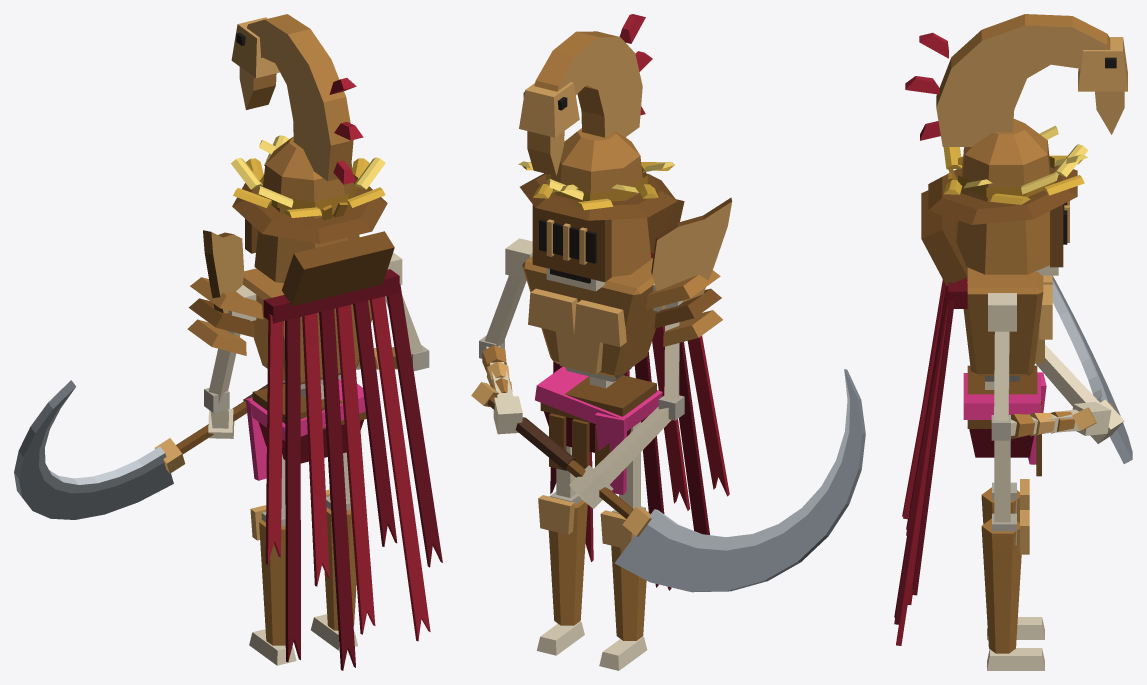
File: EN_EternalVictor.fbx
The picture shows the model from 3 angles, left to right: view 1: azimuth 30°, elevation 25°; view 2: azimuth 150°, elevation 25°; view 3: azimuth 270°, elevation 25°; orthographic projection. The views are drawn at different scales.
Parts seen in each view (by area): view 1: Crest, Blade, Ribbon4, NeckFlare, Ribbon1, Ribbon6, Ribbon3, Ribbon0, Ribbon5, Brim, Ribbon2, Head (+19 smaller); view 2: Blade, Crest, Cuirass, Guard, Head, GreaveR, Brim, Visor, Ribbon6, Sash, Dome, GriffinHead (+30 smaller); view 3: Crest, Head, Cuirass, GreaveR, Brim, Blade, Dome, NeckFlare, GriffinHead, Ribbon0, Ribbon1, Sash (+27 smaller).
Boxes of the visible parts, <box> form: Crest: <box>239,14,353,181</box>; Blade: <box>14,380,173,519</box>; Ribbon4: <box>319,309,355,670</box>; NeckFlare: <box>282,231,394,306</box>; Ribbon1: <box>369,296,430,641</box>; Ribbon6: <box>285,317,300,662</box>; Ribbon3: <box>336,304,375,634</box>; Ribbon0: <box>386,284,442,567</box>; Ribbon5: <box>302,313,329,586</box>; Brim: <box>232,183,387,244</box>; Ribbon2: <box>353,300,397,546</box>; Head: <box>254,164,359,282</box>; Blade: <box>614,369,865,592</box>; Crest: <box>527,31,642,176</box>; Cuirass: <box>522,256,657,377</box>; Guard: <box>651,197,732,308</box>; Head: <box>550,156,651,276</box>; GreaveR: <box>548,500,587,625</box>; Brim: <box>520,173,677,220</box>; Visor: <box>532,204,611,282</box>; Ribbon6: <box>679,342,709,534</box>; Sash: <box>535,366,662,431</box>; Dome: <box>560,128,640,171</box>; GriffinHead: <box>519,82,579,137</box>; Crest: <box>936,14,1124,146</box>; Head: <box>956,141,1050,274</box>; Cuirass: <box>963,267,1043,375</box>; GreaveR: <box>981,518,1021,653</box>; Brim: <box>928,165,1077,224</box>; Blade: <box>1052,276,1132,463</box>; Dome: <box>965,119,1047,164</box>; NeckFlare: <box>921,190,967,285</box>; GriffinHead: <box>1078,37,1127,91</box>; Ribbon0: <box>912,301,954,595</box>; Ribbon1: <box>896,299,948,645</box>; Sash: <box>963,373,1040,419</box>.
Bounding box in the file's own units: 2.39 × 1.23 × 3.6.
